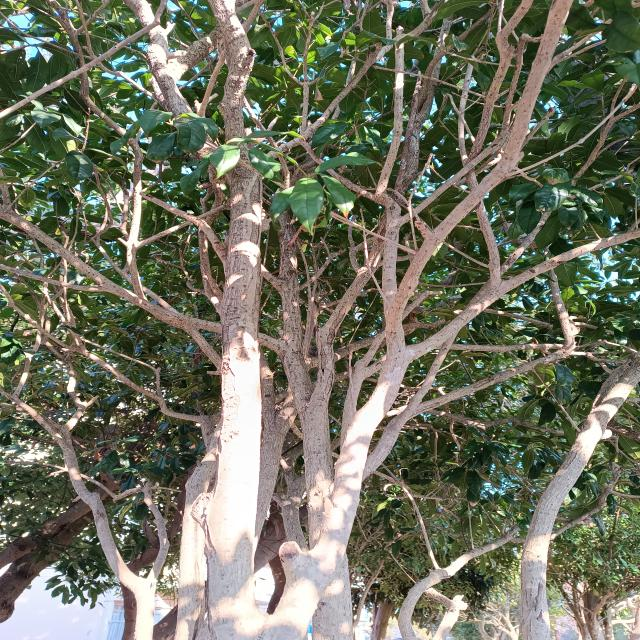Branch: (384, 1, 573, 359), (191, 0, 262, 623), (273, 347, 413, 631), (309, 117, 426, 407), (273, 208, 334, 548)
Twig: (405, 103, 640, 411), (49, 0, 231, 297), (363, 270, 578, 481), (0, 202, 284, 353), (92, 167, 226, 367), (414, 59, 500, 358), (499, 103, 640, 278), (296, 0, 376, 201), (498, 230, 639, 296), (140, 192, 229, 275), (377, 26, 405, 192), (374, 193, 403, 314), (0, 263, 104, 292), (300, 237, 345, 290)
